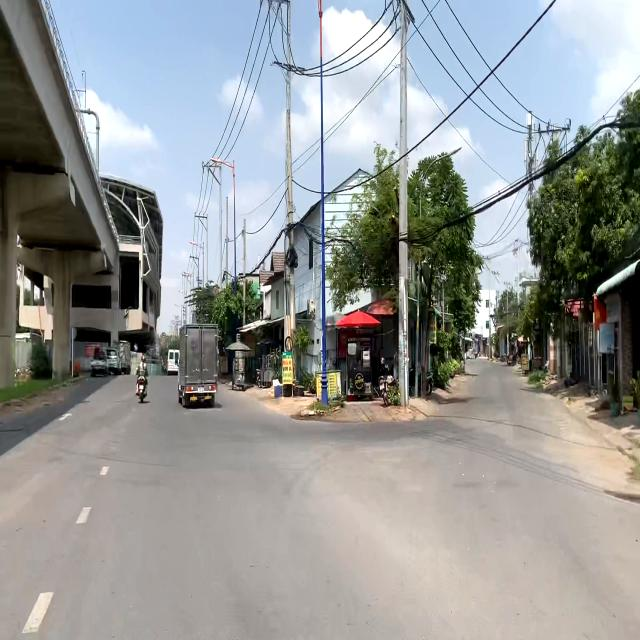R.302a: (134, 343, 138, 352)
